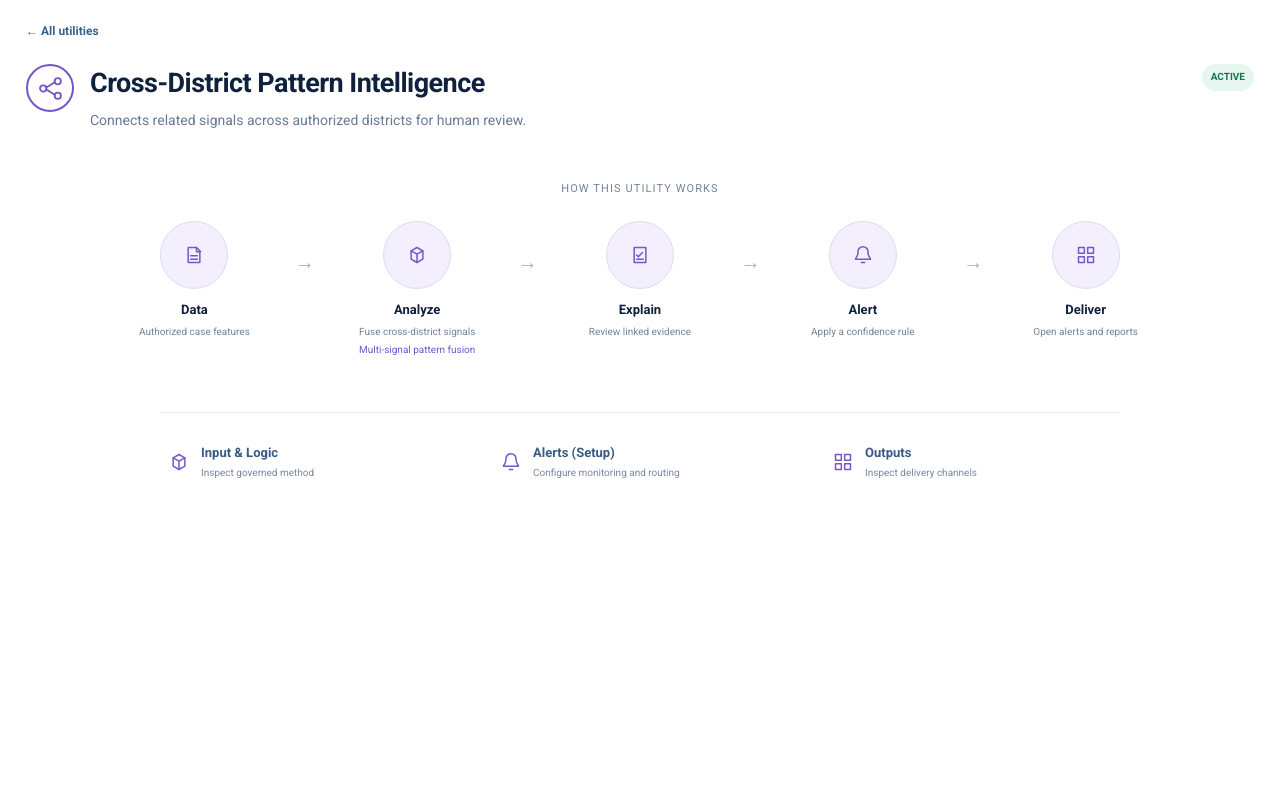
it: accepts the legacy deployed AI assistance contract while the backend rolls forward
Expected: the heading "Cross-District Pattern Intelligence" is shown, [90, 64, 526, 104]
Click the button "Alerts (Setup)": click(574, 452) [492, 435, 788, 489]
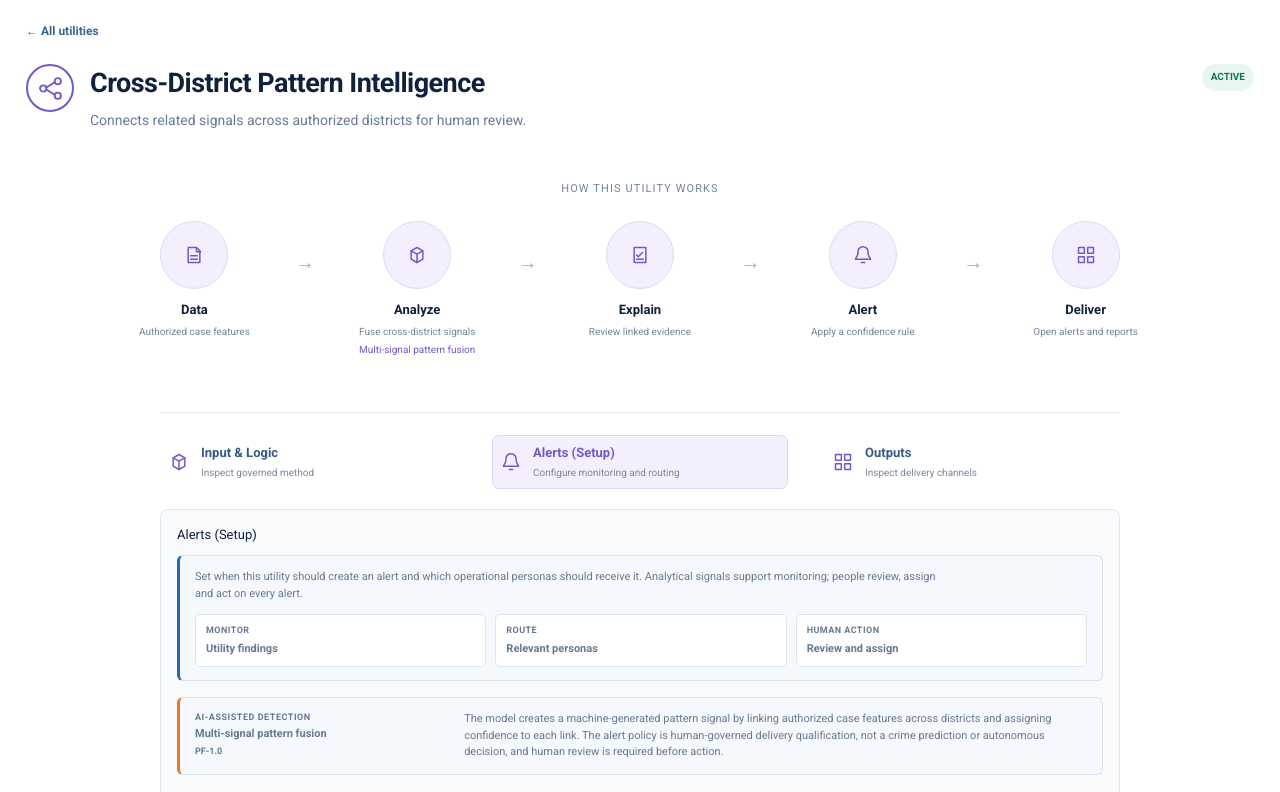
Result: the element "AI-assisted detection" shows "Multi-signal pattern fusion" at [195, 727, 327, 740]
Result: the element "AI-assisted detection" shows "PF-1.0" at [195, 746, 222, 756]
Result: the element "AI-assisted detection" shows "human review is required" at [464, 712, 1051, 758]
